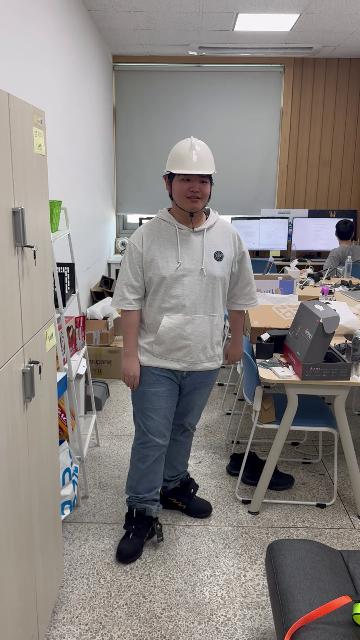helmet_worn: (163, 136, 218, 175)
shoe_not_worn: (240, 453, 292, 491), (226, 450, 257, 477)
shoe_worn: (115, 508, 162, 563), (159, 473, 211, 518)
vest_not_worn: (134, 211, 232, 373)
